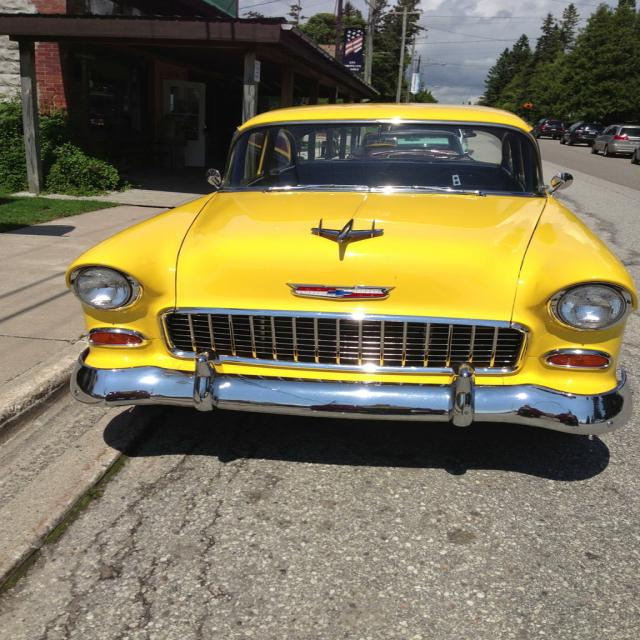car: (61, 103, 638, 440)
